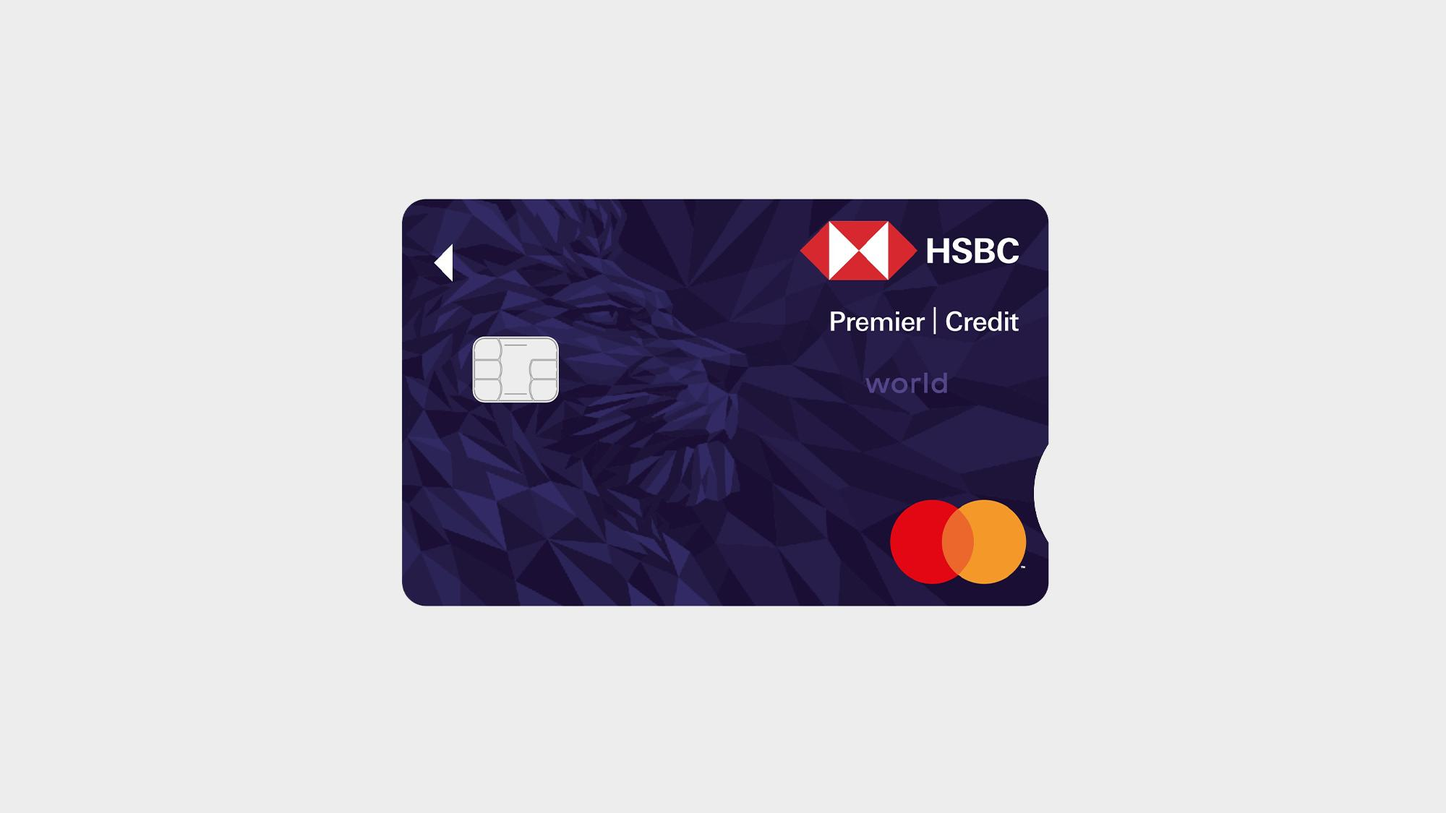Credit_card: (403, 200, 1048, 605)
